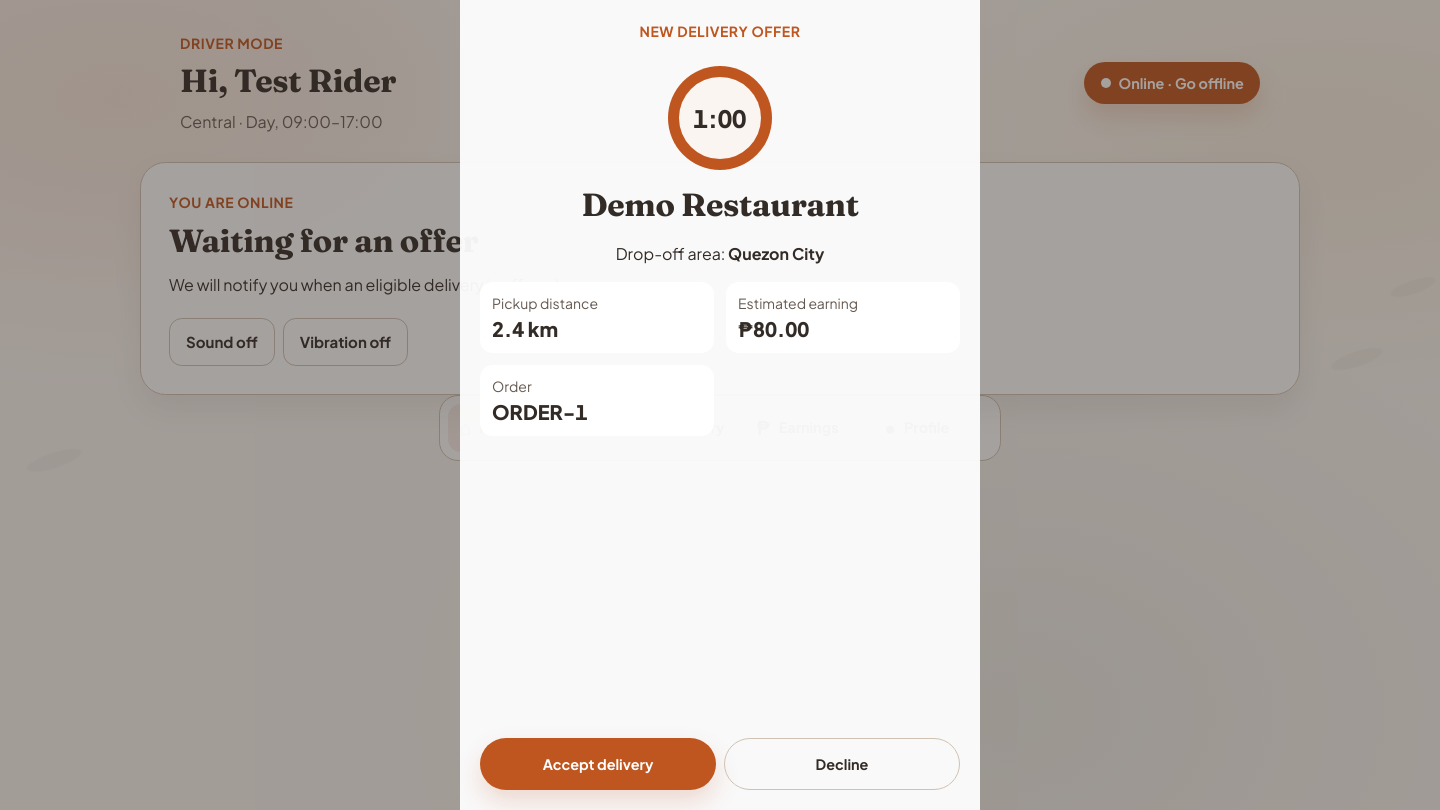
Test: RiderPage dispatch experience › stops the GPS watch and rejects later callbacks when the server reports ineligibility
This screenshot has width=1440, height=810.
Click the button "Accept delivery".
click(598, 764)  # box [480,738,716,790]
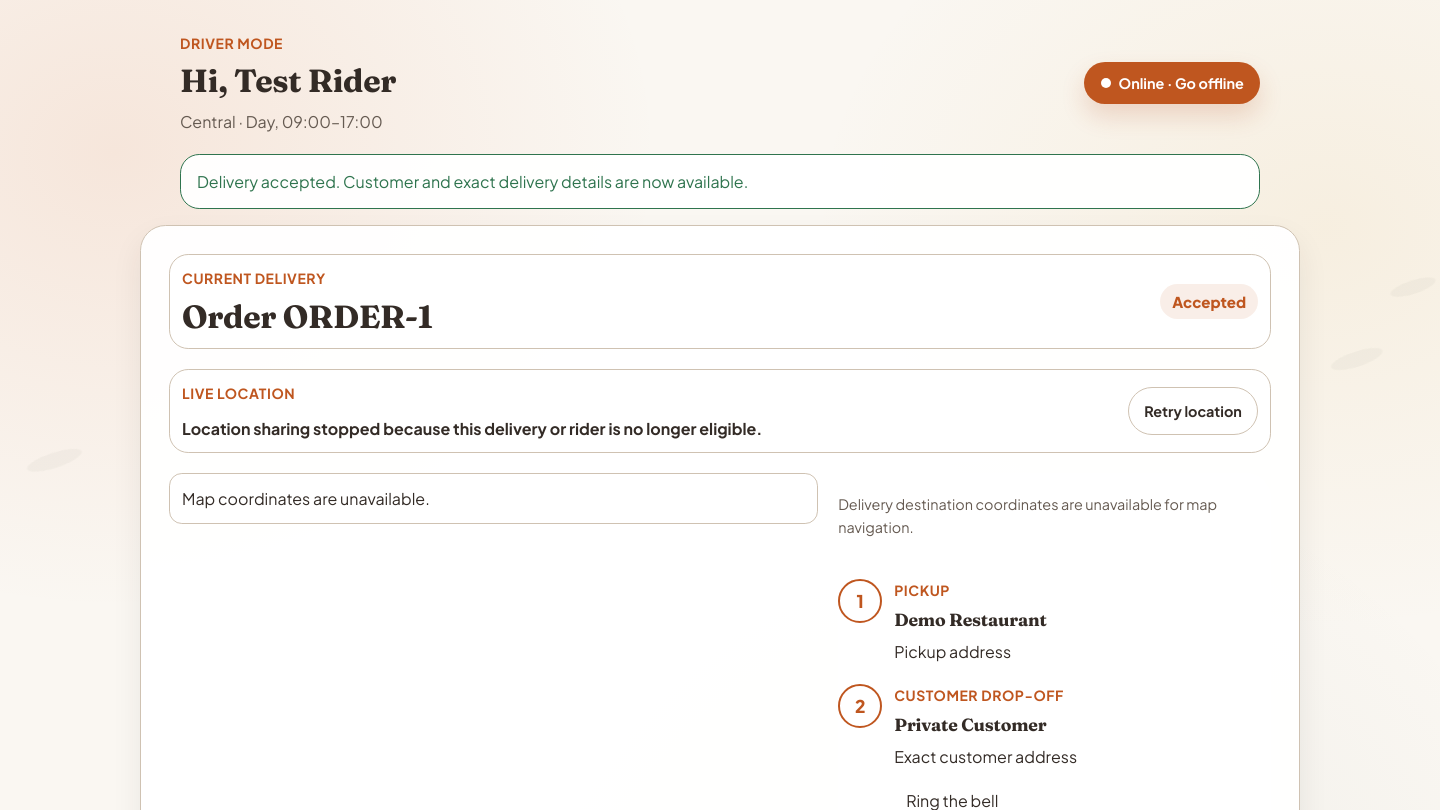
expect the text "Exact customer address" is shown: met, box [894,746,1077,767]
expect the text "Location sharing stopped because this delivery or rider is no longer eligible" is shown: met, box [182,418,762,438]
